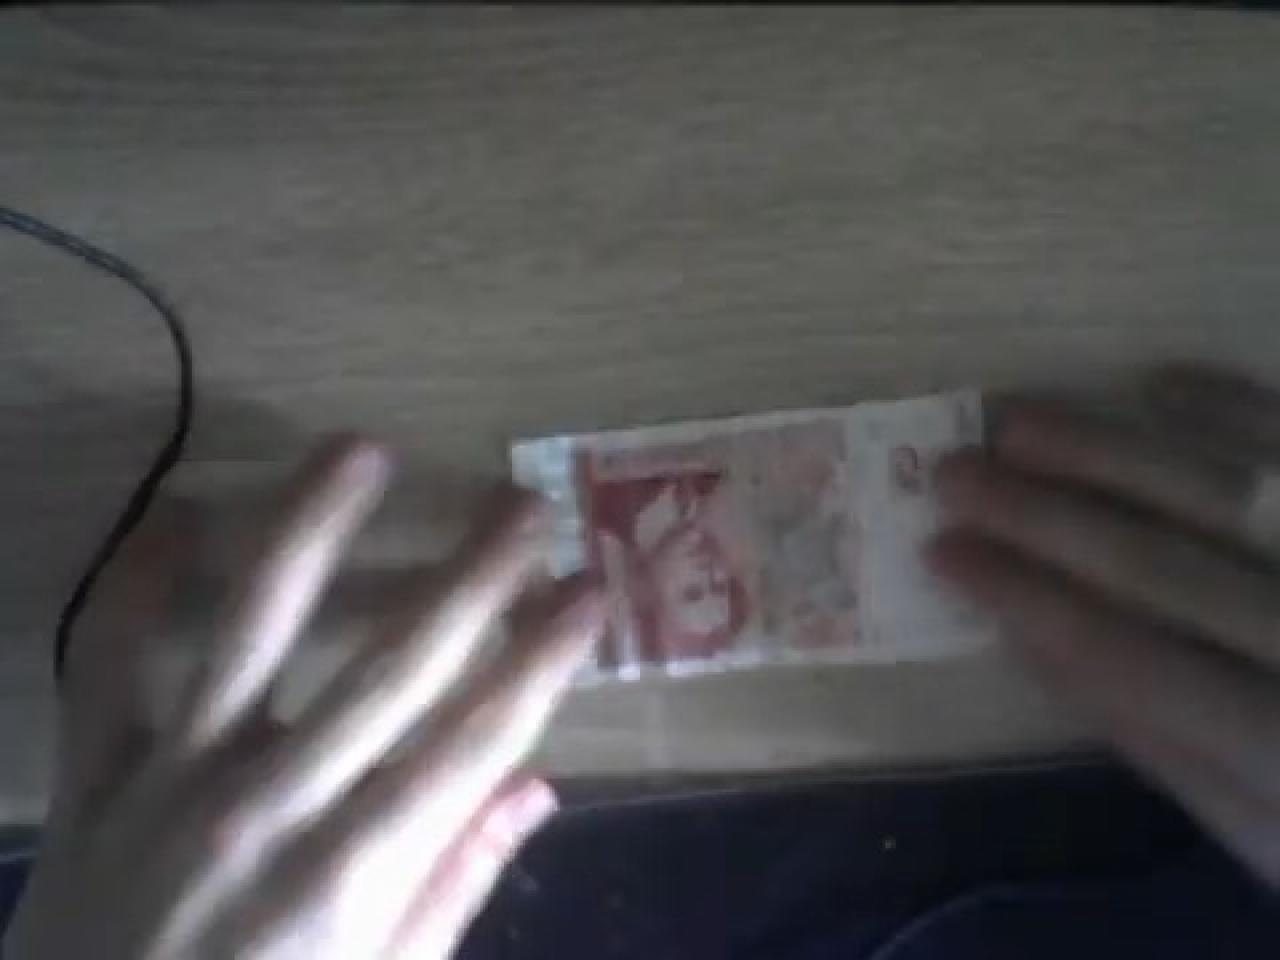5leva: (525, 389, 987, 680)
